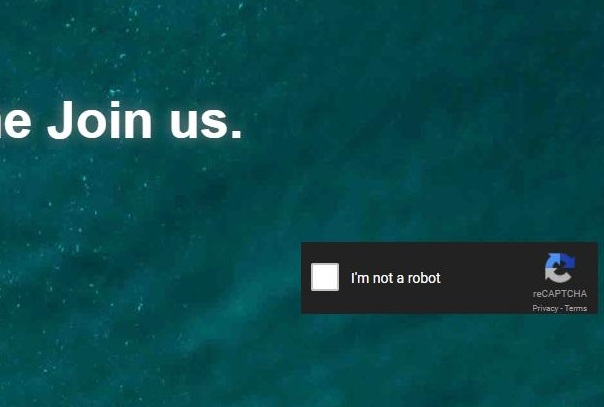captcha: (311, 263, 442, 292)
